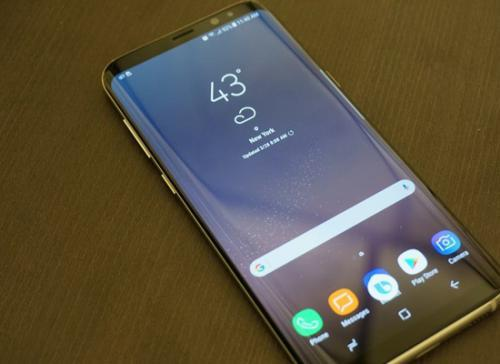phone: (104, 3, 469, 352)
